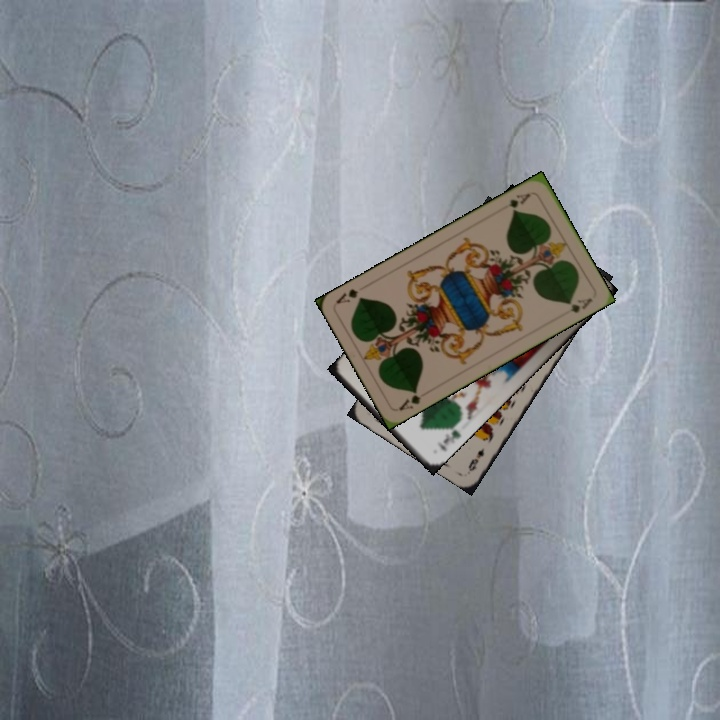E9: (464, 443, 487, 474)
GA: (395, 386, 423, 413), (504, 189, 533, 214)
GK: (433, 419, 463, 454)
